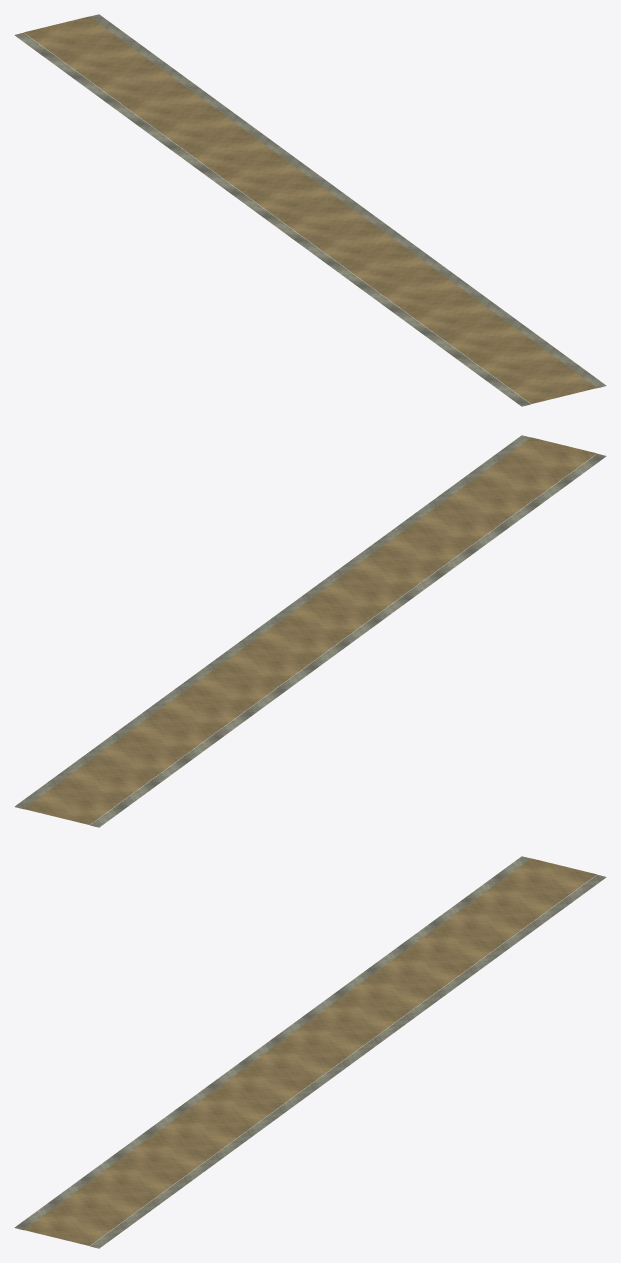
Rendered from road_forest_straight_64m.glb.
3 views of the same model, one above another, from view 1: azimuth 30°, elevation 25°; view 2: azimuth 150°, elevation 25°; view 3: azimuth 330°, elevation 25° (orthographic).
Parts seen in each view (by area): view 1: road_surface, static_gravel; view 2: road_surface, static_gravel; view 3: road_surface, static_gravel.
Boxes of the visible parts, x1,y1,x2,y2 form: road_surface: (24,16,596,403); static_gravel: (14,14,606,406); road_surface: (24,437,596,824); static_gravel: (14,435,606,827); road_surface: (24,858,596,1245); static_gravel: (14,856,606,1248).
Bounding box in the file's own units: 6.2 × 0.018 × 64.
Materials: 2 (2 with a texture image).
